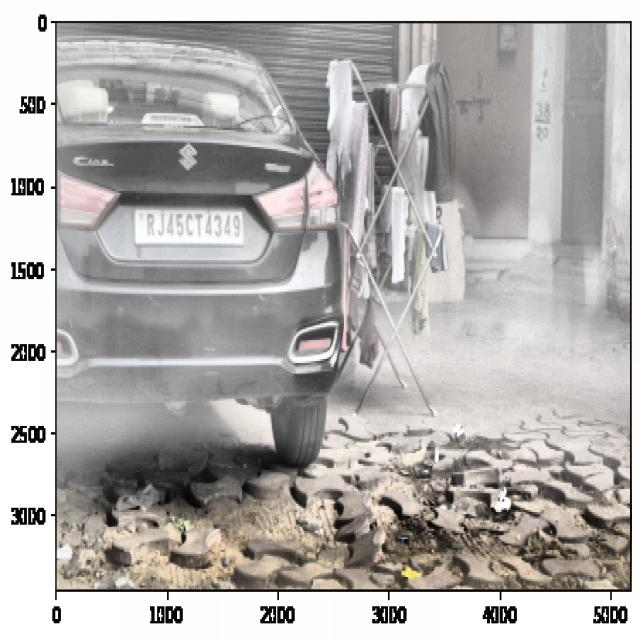license_plate: (135, 204, 246, 248)
